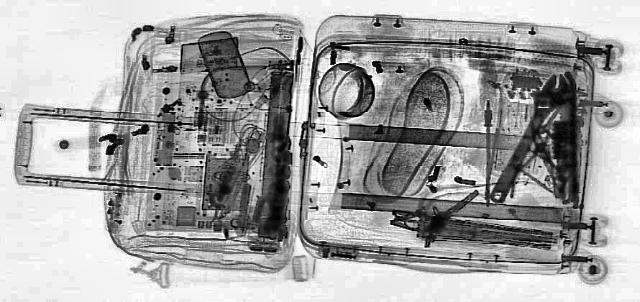Wrench: (476, 72, 582, 204)
